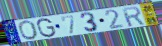2: (105, 9, 126, 31)
3: (80, 11, 100, 33)
7: (59, 14, 76, 35)
G: (36, 18, 57, 39)
O: (17, 19, 39, 41)
R: (120, 5, 146, 28)
